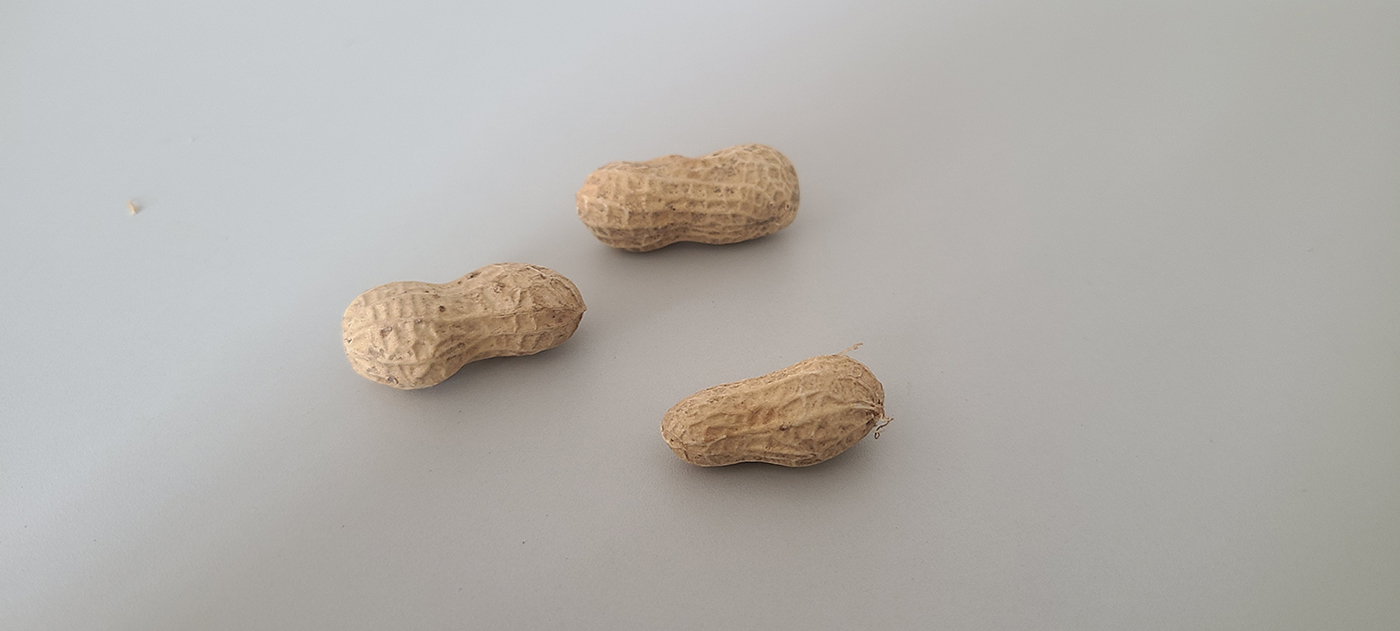h: (339, 259, 587, 390), (658, 352, 884, 468), (575, 139, 801, 252)
